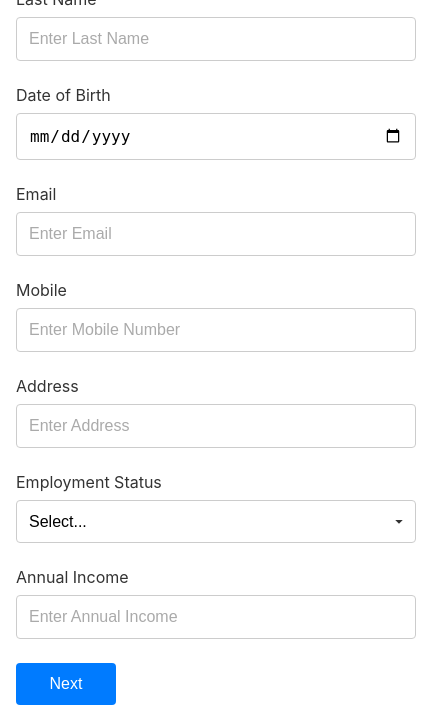
it: Multi Step Form Validation › should display validation errors when fields are empty
The image size is (433, 718).
(page scrolled)
Click the button "Next". click: (66, 684)
box: left=16, top=663, right=116, bottom=705
(page scrolled)
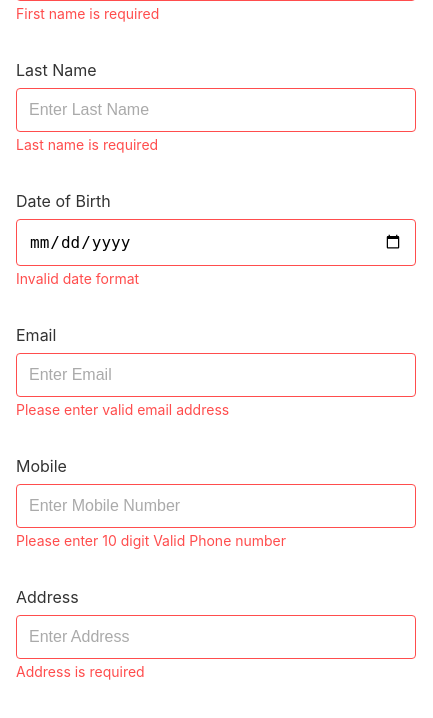
Check: the text "First name is required" is shown, box left=16, top=5, right=159, bottom=22
Check: the text "Last name is required" is shown, box left=16, top=136, right=158, bottom=153
Check: the text "Invalid date format" is shown, box left=16, top=270, right=139, bottom=287
